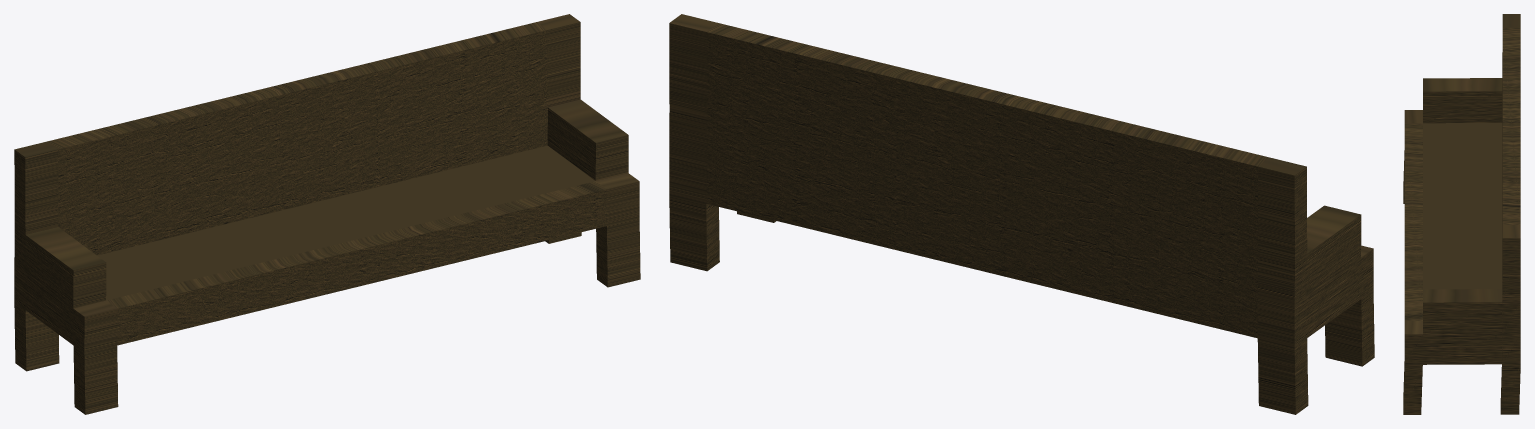
The model's file is bench.fbx.
The picture shows the model from 3 angles, left to right: view 1: azimuth 30°, elevation 25°; view 2: azimuth 150°, elevation 25°; view 3: azimuth 270°, elevation 25°; orthographic projection. The views are drawn at different scales.
Visible parts, largest first — view 1: pCube83; view 2: pCube83; view 3: pCube83.
Part boxes in pixels (box(x1,y1,x2,y2)): pCube83: box(14, 14, 640, 414); pCube83: box(669, 14, 1374, 414); pCube83: box(1403, 14, 1520, 414).
Bounding box in the file's own units: 15.77 × 5.8 × 3.5.
